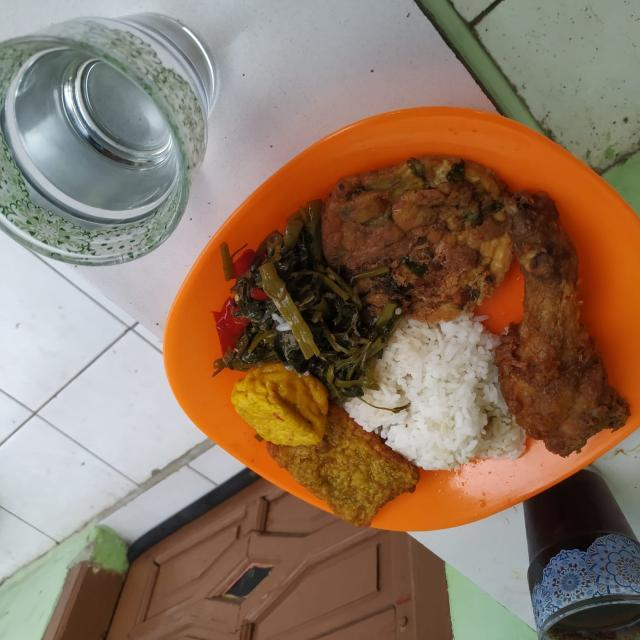ayam_goreng: (457, 198, 616, 483)
nasi_putih: (352, 303, 506, 506)
telur_ayam_dadar: (316, 154, 514, 338)
